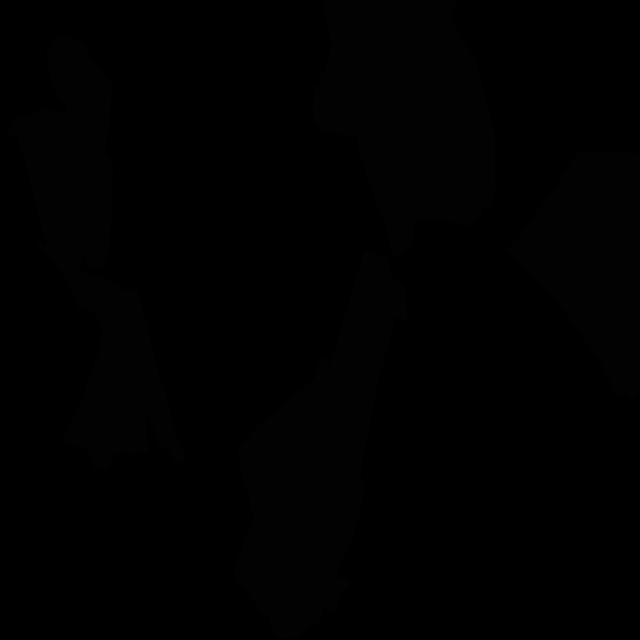cardboard: (234, 358, 365, 639), (358, 0, 496, 259), (505, 151, 640, 401), (8, 33, 113, 274), (63, 270, 186, 470), (312, 0, 438, 141), (328, 252, 407, 468), (322, 0, 361, 45)
